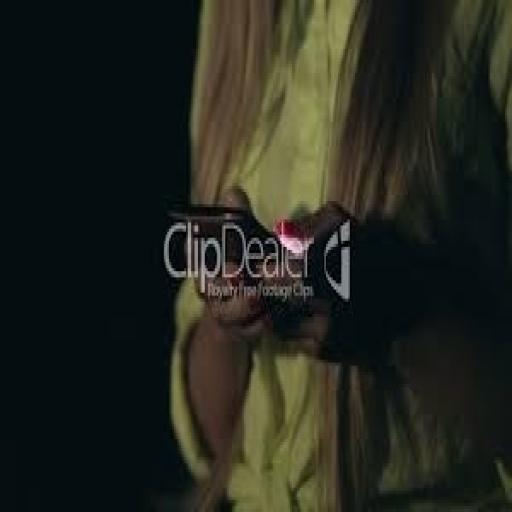texting: (164, 0, 510, 509)
